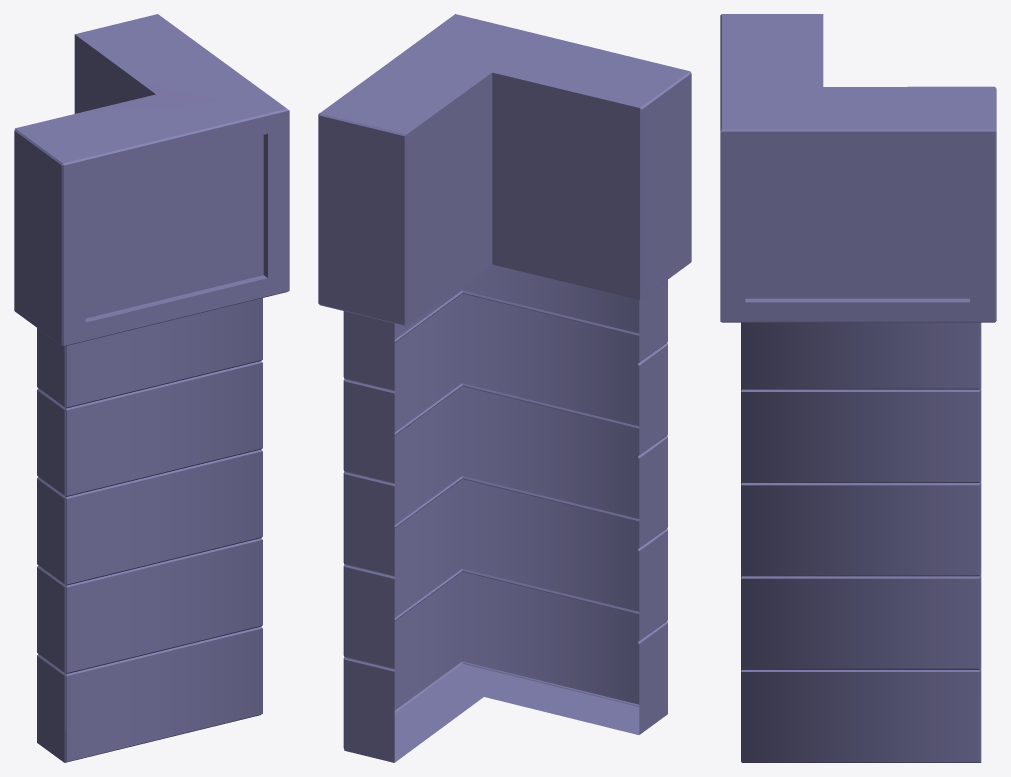
File: M_A_corner_05.fbx
3 renders of one model, left to right at view 1: azimuth 30°, elevation 25°; view 2: azimuth 150°, elevation 25°; view 3: azimuth 270°, elevation 25°, orthographic. The views are drawn at different scales.
Visible parts, largest first — view 1: M_A_corner_05; view 2: M_A_corner_05; view 3: M_A_corner_05.
Part boxes in pixels (<box>): M_A_corner_05: <box>14,14,289,762</box>; M_A_corner_05: <box>318,14,691,762</box>; M_A_corner_05: <box>720,14,996,762</box>.
Bounding box in the file's own units: 161 × 413 × 161.
